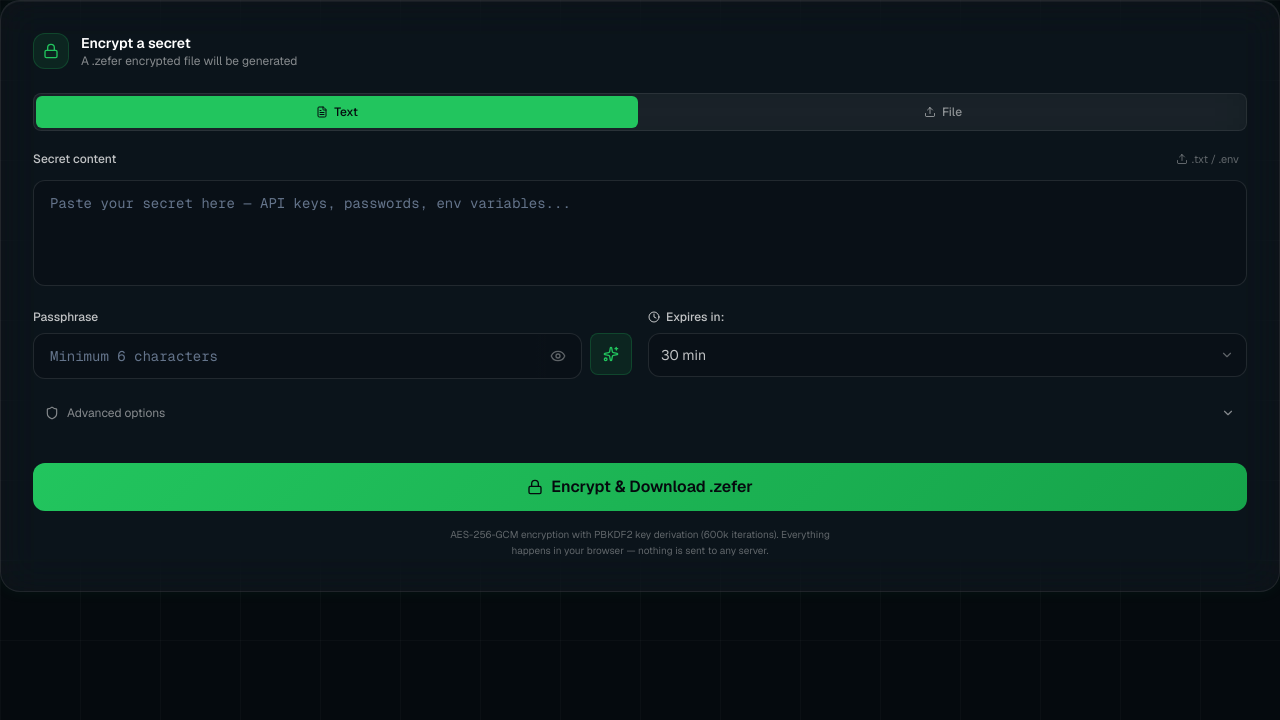
Test: EncryptForm › refuses an empty secret
Click the button "Encrypt & Download .zefer" at [640, 486], box [33,462,1247,510]
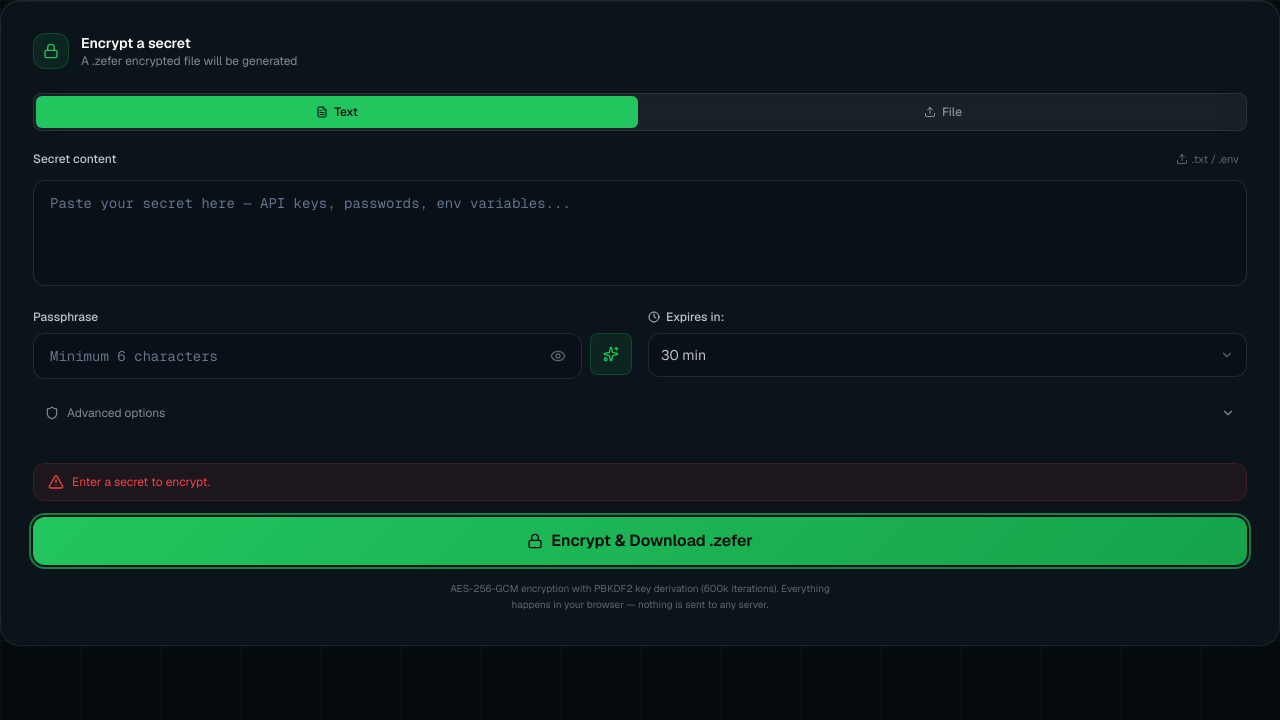
Check: the text "Enter a secret to encrypt." is shown, box [72,474,210,490]
